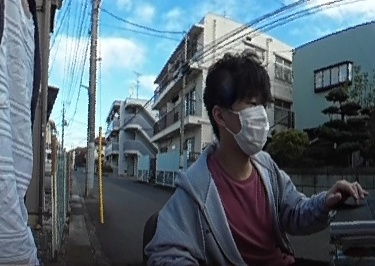person: (155, 53, 345, 266)
